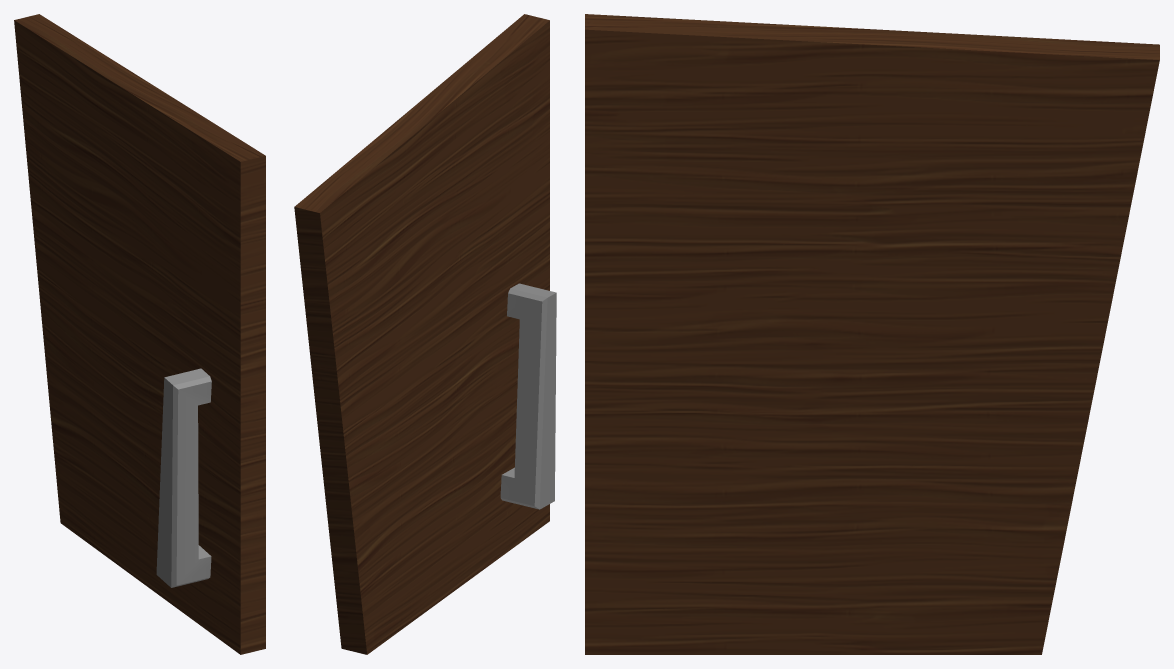
The model's file is KitchenCabinet_DoorLeft.fbx.
The picture shows the model from 3 angles, left to right: view 1: azimuth 30°, elevation 25°; view 2: azimuth 150°, elevation 25°; view 3: azimuth 270°, elevation 25°; orthographic projection. The views are drawn at different scales.
Visible parts, largest first — view 1: Midnight_Antics_Kitchen_V1.005; view 2: Midnight_Antics_Kitchen_V1.005; view 3: Midnight_Antics_Kitchen_V1.005.
Boxes of the visible parts, x1=… form: Midnight_Antics_Kitchen_V1.005: x1=14, y1=14, x2=265, y2=654; Midnight_Antics_Kitchen_V1.005: x1=294, y1=14, x2=556, y2=654; Midnight_Antics_Kitchen_V1.005: x1=585, y1=14, x2=1159, y2=654.
Bounding box in the file's own units: 1128 × 8532 × 7108.
